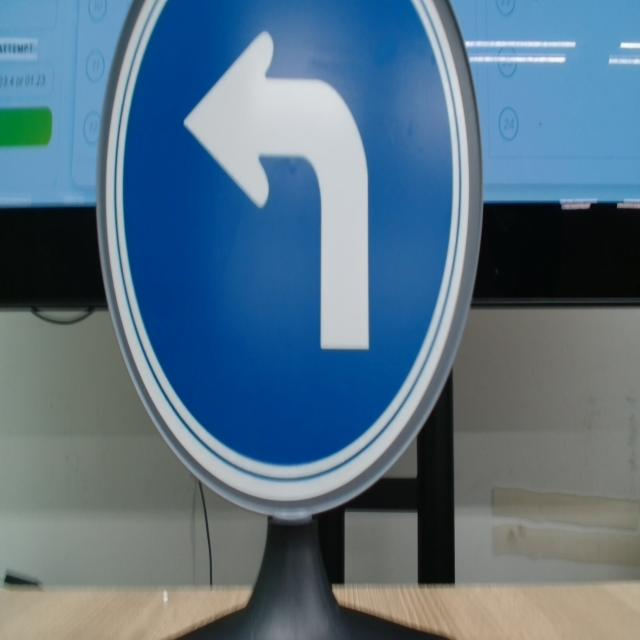left_direction: (94, 0, 481, 510)
